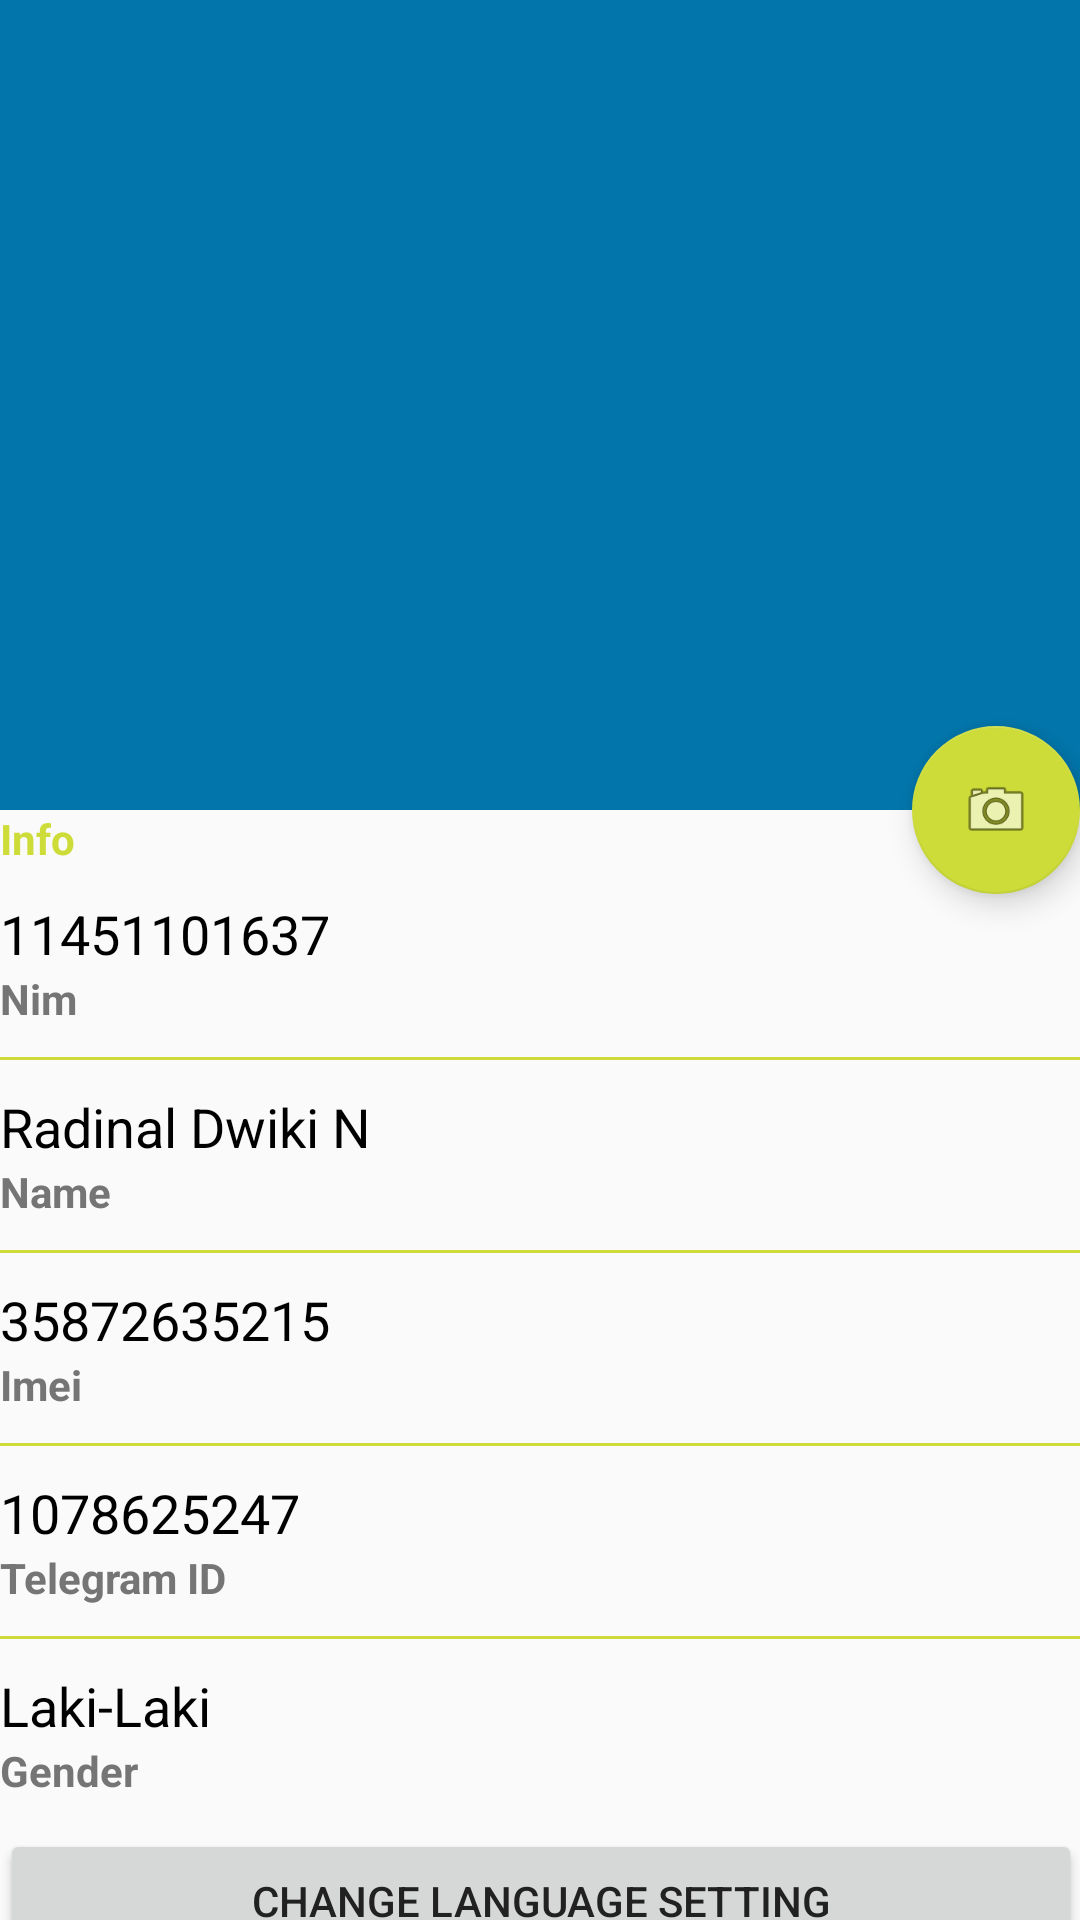

Screen size 1080px x 1920px. Icon name, then its center in pixels as (x,y):
camera: (996,810)
